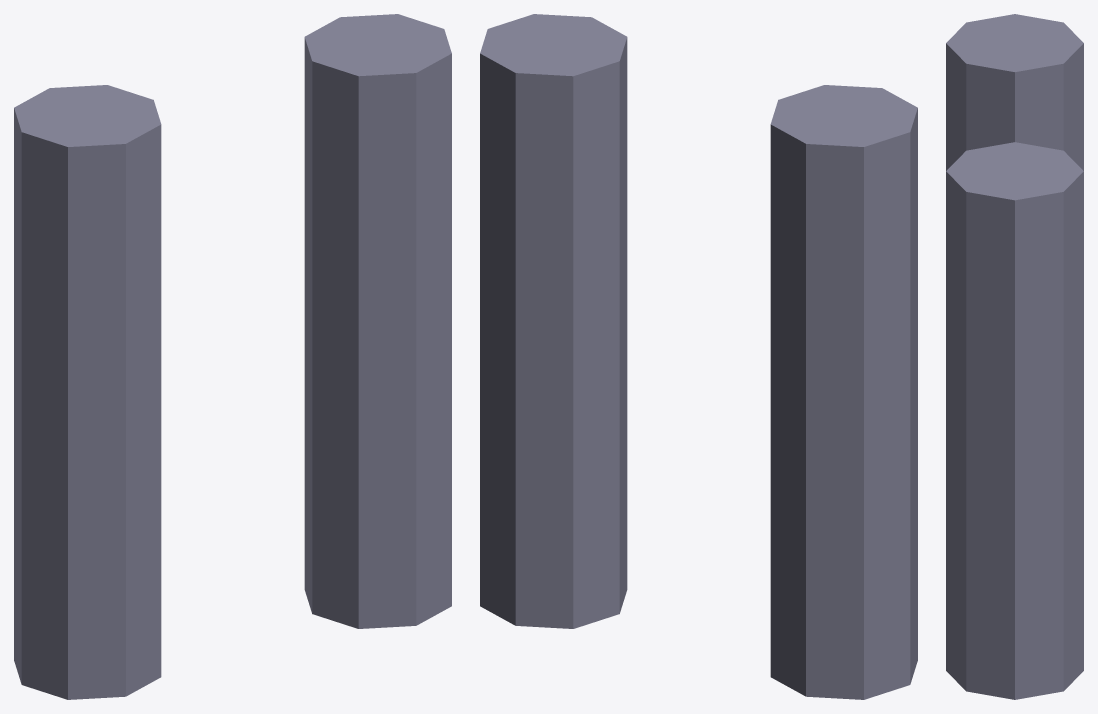
Rendered from ColumnsNew.fbx.
3 views of the same model, side by side, from view 1: azimuth 30°, elevation 25°; view 2: azimuth 150°, elevation 25°; view 3: azimuth 270°, elevation 25° (orthographic). The views are drawn at different scales.
Visible parts, largest first — view 1: cylinderVertex (×2); view 2: cylinderVertex (×2); view 3: cylinderVertex (×2).
Boxes of the visible parts, bbox=[...] form: cylinderVertex (×2): bbox=[14, 14, 451, 699]; cylinderVertex (×2): bbox=[480, 14, 917, 699]; cylinderVertex (×2): bbox=[946, 14, 1083, 699].
Bounding box in the file's own units: 16 × 20 × 5.
